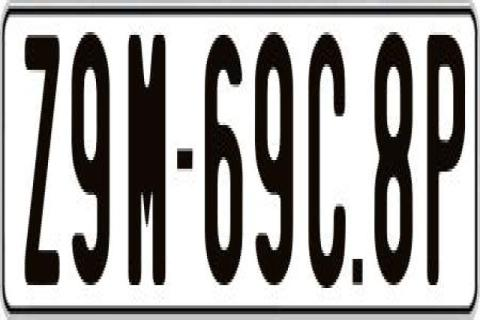0: (204, 27, 248, 280), (252, 32, 296, 285), (71, 29, 113, 288), (374, 32, 414, 288)
C: (308, 32, 346, 285)
M: (128, 26, 170, 276)
P: (427, 29, 467, 294)
Z: (22, 32, 60, 288)
